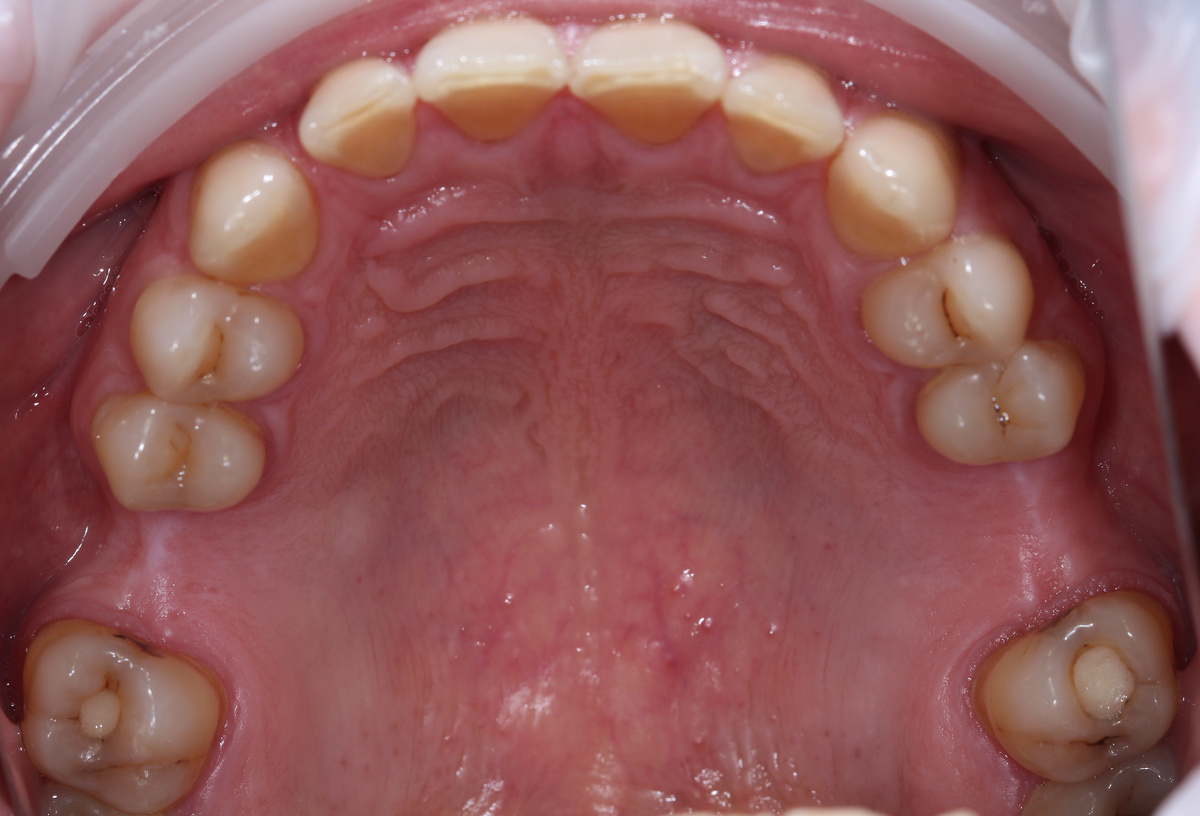UL1BC_decay: (869, 238, 1026, 366)
UL1M_decay: (962, 471, 1108, 600)
UL2BC_healthy: (920, 355, 1073, 462)
UL2M_decay: (988, 599, 1167, 780)
ULCI_healthy: (571, 22, 722, 139)
ULC_healthy: (829, 119, 952, 254)
ULLI_healthy: (725, 61, 842, 169)
UR1BC_decay: (131, 275, 301, 399)
UR1M_decay: (87, 514, 245, 638)
UR2BC_decay: (97, 406, 260, 509)
UR2M_decay: (26, 634, 215, 811)
URCI_healthy: (415, 21, 564, 141)
URC_healthy: (192, 147, 315, 280)
URLI_healthy: (301, 61, 413, 176)
